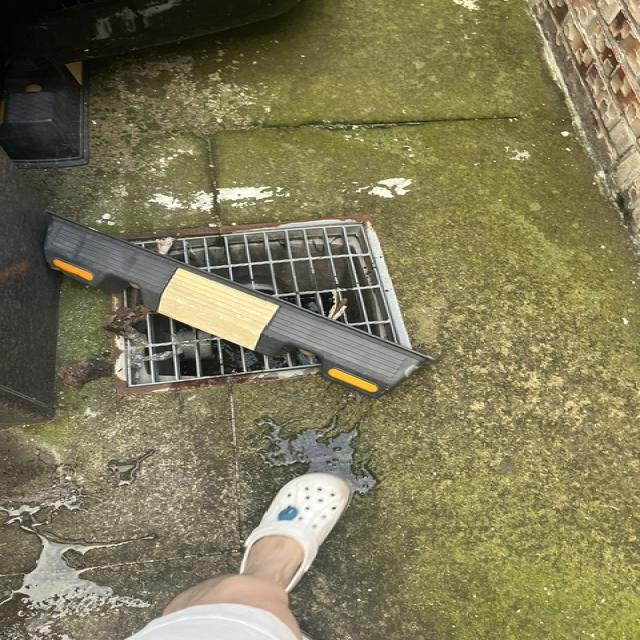drain_area: (168, 225, 398, 345), (126, 313, 318, 386), (133, 242, 157, 253)
drain_full: (119, 225, 403, 386)
